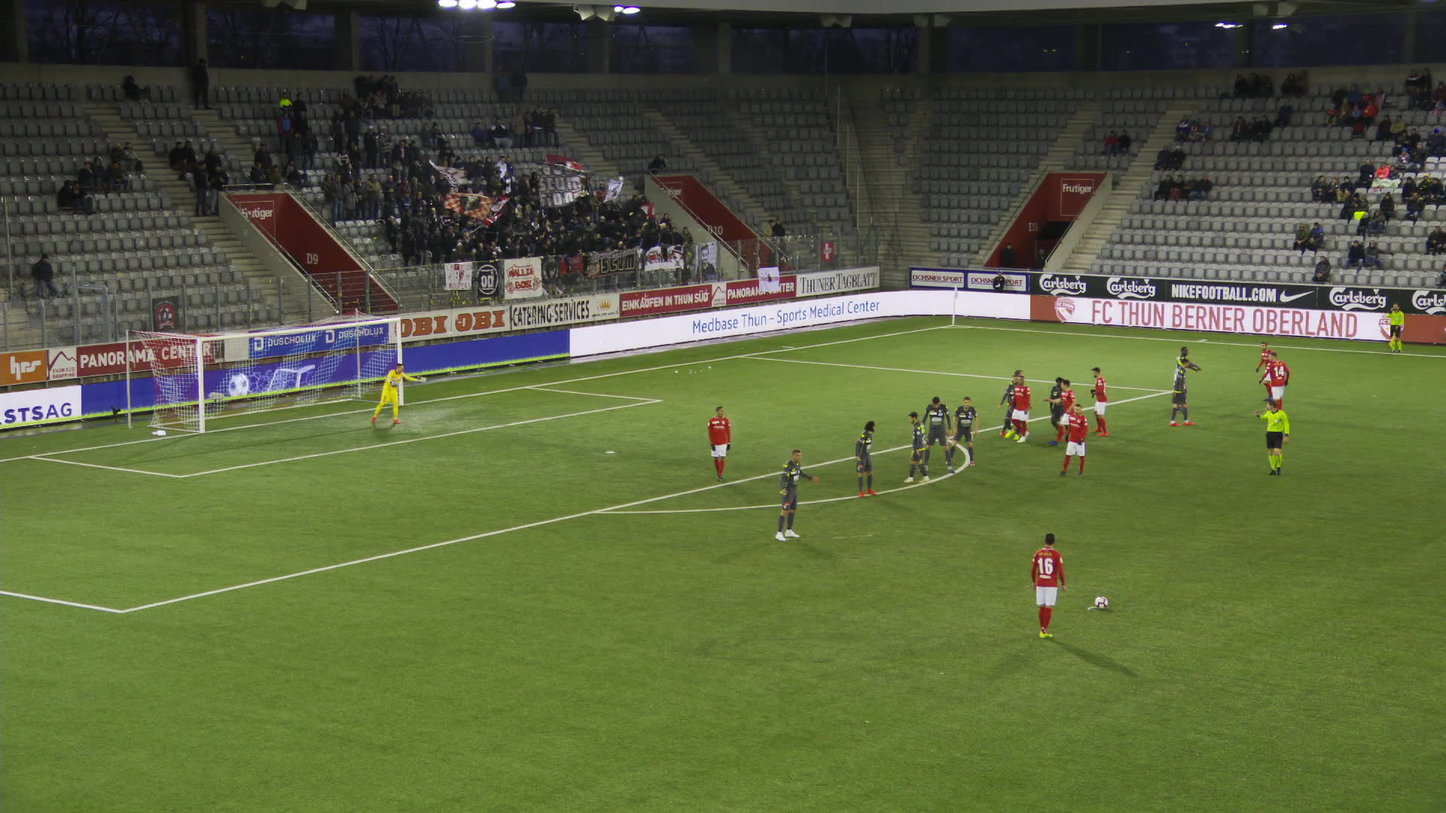ball: (1094, 595, 1108, 608)
player: (773, 448, 819, 542), (1030, 532, 1066, 638), (369, 362, 426, 425), (918, 394, 954, 474), (1041, 378, 1078, 445), (1055, 403, 1088, 478), (947, 395, 978, 467), (1258, 351, 1290, 410), (706, 405, 731, 480), (854, 419, 878, 497), (999, 369, 1026, 437), (904, 411, 929, 484), (1167, 358, 1192, 427), (1007, 374, 1031, 442), (1174, 346, 1200, 406), (1000, 376, 1023, 440), (1089, 367, 1109, 437), (1255, 340, 1277, 400), (1050, 377, 1070, 438)
referee: (1254, 400, 1289, 476), (1386, 302, 1405, 352)
